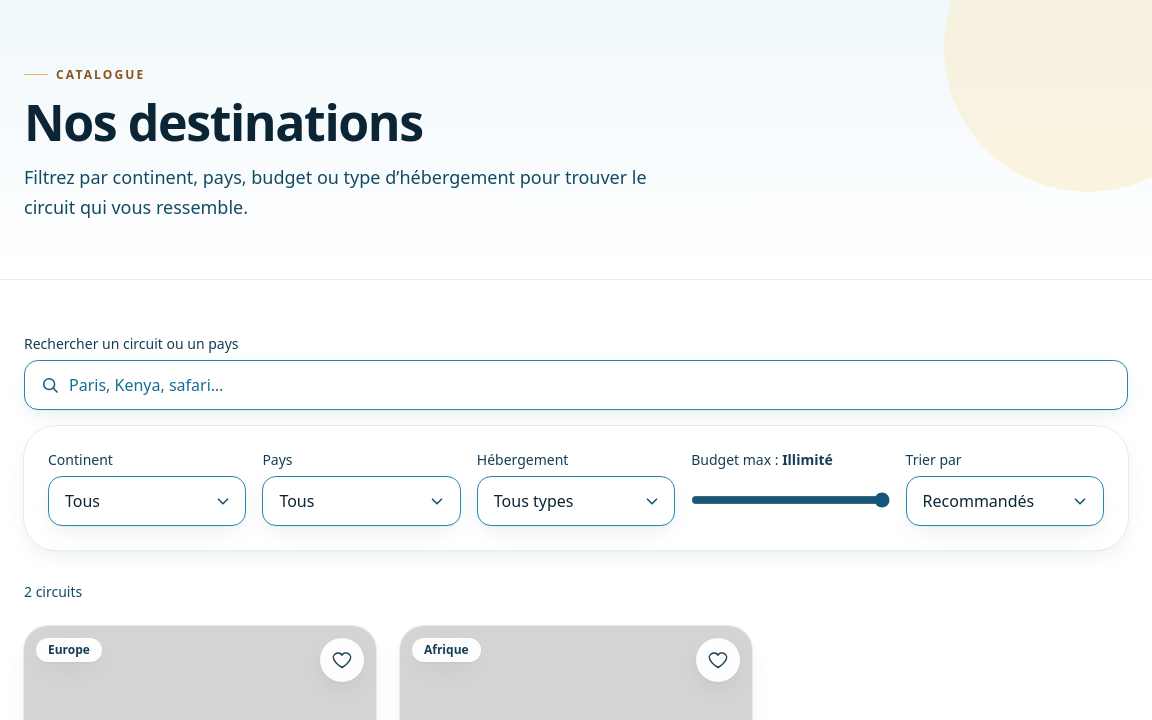
Scenario: CatalogListComponent › recherche › affiche un état vide adapté puis efface la recherche
In the search field with id "f-query": (576, 385) [24,360,1128,410], type "zzz"
Wait 250 ms
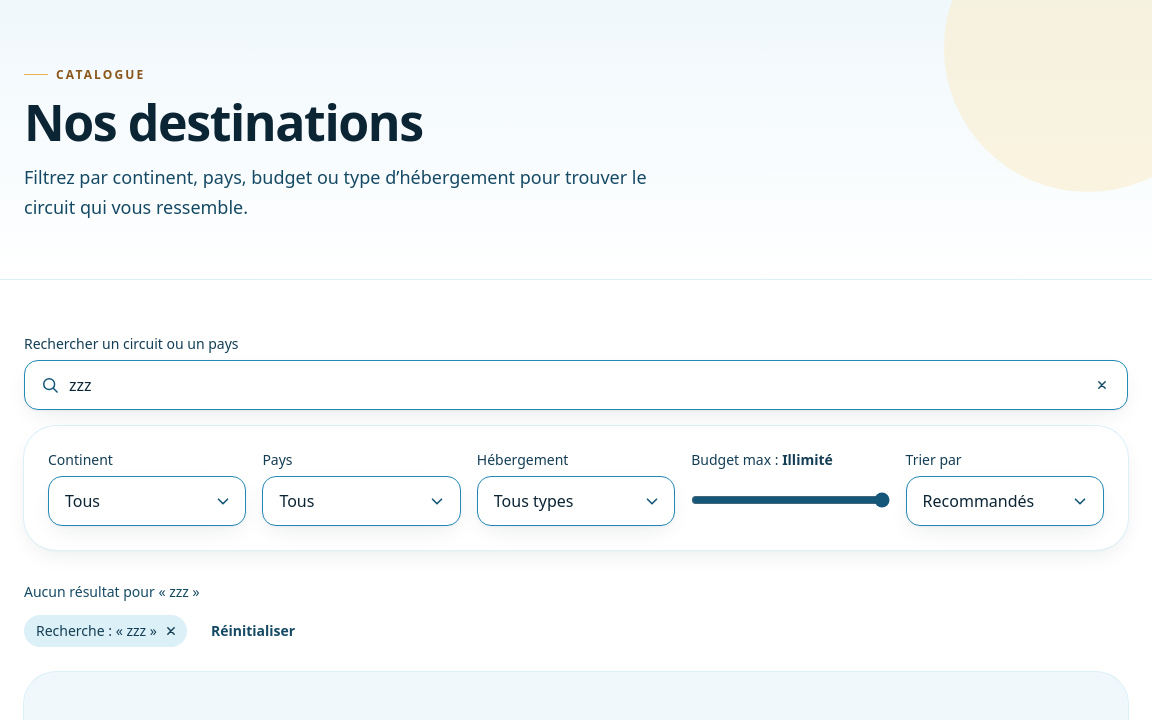
Now the text "Aucun résultat pour « zzz »" is shown, box [24,582,200,602]
Click the button named "Effacer la recherche": (1102, 385) [1084,367,1120,403]
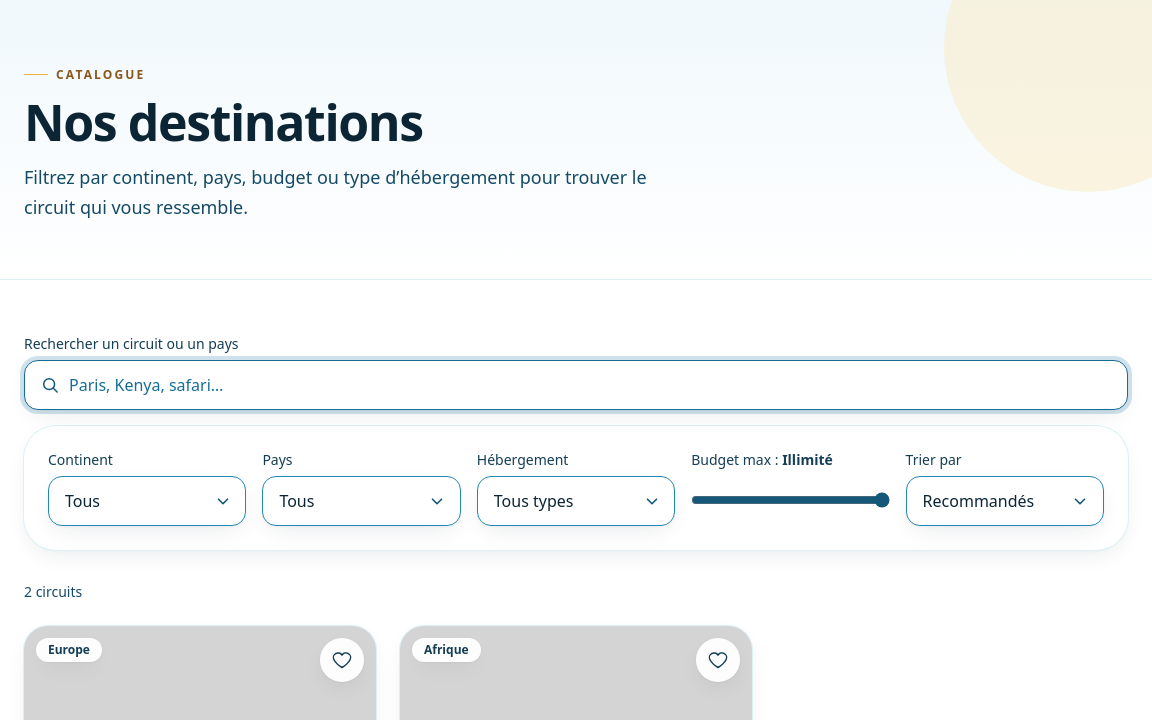
Now the search field with id "f-query" is empty, box [24,360,1128,410]
